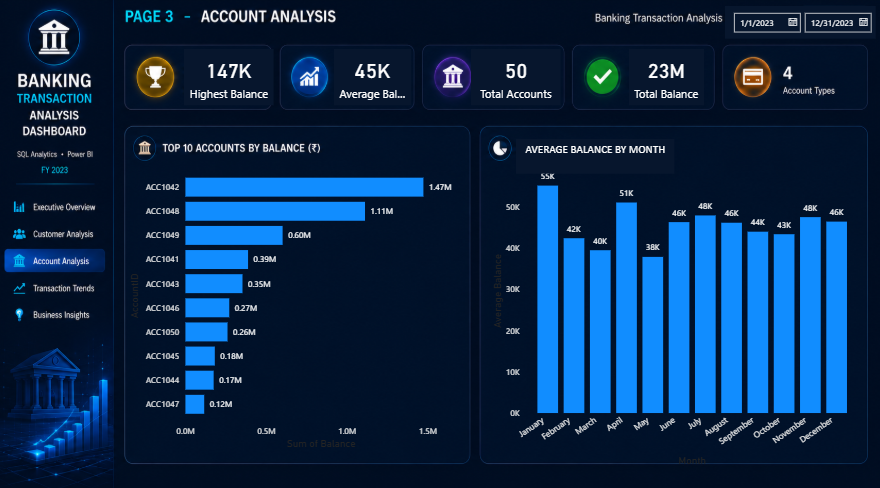

This screenshot's page, from the dashboard's own definition file:
{"tool":"powerbi","page":{"name":"Page 3","canvas":[1280,720],"ordinal":2},"visuals":[{"type":"card","fields":{"Values":["banking_transactions.Average Balance"]},"box":[485.5,75.6,110.9,80.6],"z":0},{"type":"clusteredBarChart","fields":{"Category":["banking_transactions.AccountID"],"Y":["Sum(banking_transactions.Balance)"]},"box":[184.8,233.5,497.2,423.3],"z":1000},{"type":"clusteredColumnChart","fields":{"Category":["banking_transactions.Month"],"Y":["banking_transactions.Average Balance"]},"box":[707.2,233.5,537.5,446.8],"z":2000},{"type":"card","fields":{"Values":["banking_transactions.Highest Balance"]},"box":[268.8,75.6,129.3,80.6],"z":3000},{"type":"card","fields":{"Values":["banking_transactions.Total Accounts"]},"box":[682,75.6,129.3,80.6],"z":4000},{"type":"card","fields":{"Values":["banking_transactions.Total Balance"]},"box":[910.4,75.6,107.5,80.6],"z":5000},{"type":"textbox","box":[747.5,204.9,228.5,50.4],"z":6000},{"type":"slicer","fields":{"Values":["banking_transactions.TransactionDate"]},"box":[1048.2,13.4,216.7,47],"z":7000},{"type":"actionButton","box":[0,285.6,152.9,38.6],"z":8000},{"type":"actionButton","box":[0,324.2,152.9,38.6],"z":9000},{"type":"actionButton","box":[0,406.5,152.9,38.6],"z":10000},{"type":"actionButton","box":[13.4,436.7,152.9,38.6],"z":11000}]}

Visuals, with their boxes in screenshot pixels (x1, y1, x2, y2), scaled from the page's 1280x720 canvas onto the 880x488 screenshot:
card - banking_transactions.Average Balance: <box>334,51,410,106</box>
clusteredBarChart - banking_transactions.AccountID x Sum(banking_transactions.Balance): <box>127,158,469,445</box>
clusteredColumnChart - banking_transactions.Month x banking_transactions.Average Balance: <box>486,158,856,461</box>
card - banking_transactions.Highest Balance: <box>185,51,274,106</box>
card - banking_transactions.Total Accounts: <box>469,51,558,106</box>
card - banking_transactions.Total Balance: <box>626,51,700,106</box>
textbox: <box>514,139,671,173</box>
slicer - banking_transactions.TransactionDate: <box>721,9,870,41</box>
actionButton: <box>0,194,105,220</box>
actionButton: <box>0,220,105,246</box>
actionButton: <box>0,276,105,302</box>
actionButton: <box>9,296,114,322</box>
